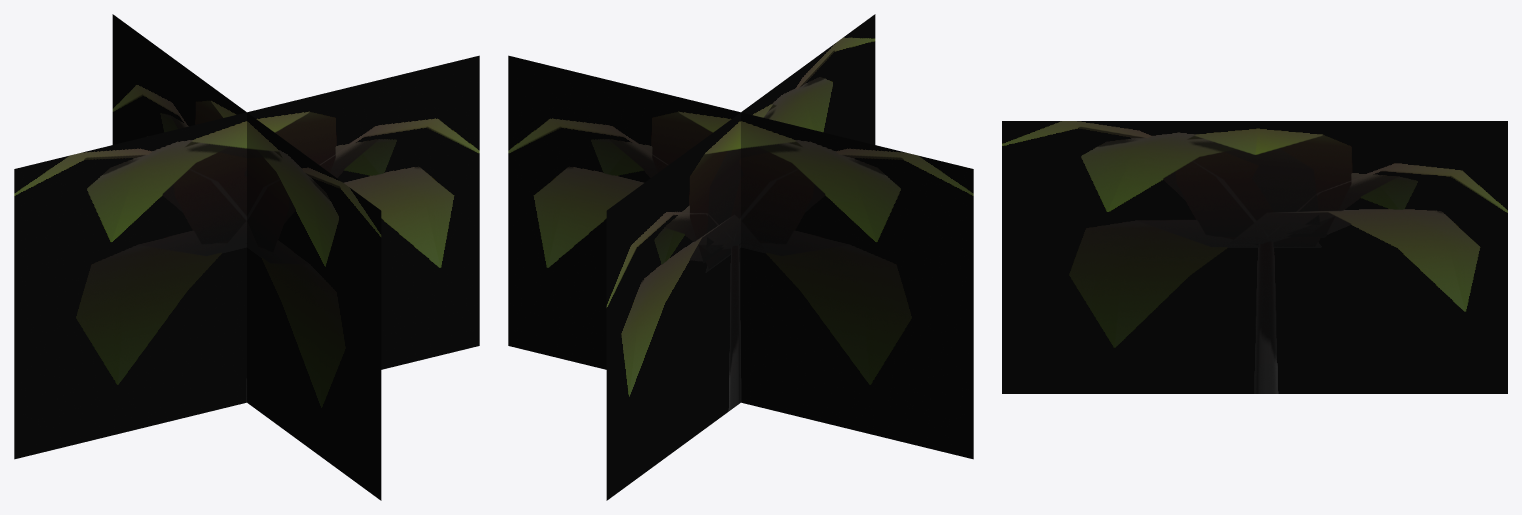
File: banana_a_card.glb
3 renders of one model, left to right at view 1: azimuth 30°, elevation 25°; view 2: azimuth 150°, elevation 25°; view 3: azimuth 270°, elevation 25°, orthographic. The views are drawn at different scales.
Parts seen in each view (by area): view 1: banana_a_card; view 2: banana_a_card; view 3: banana_a_card.
Boxes of the visible parts, <box> form: banana_a_card: <box>14,14,479,500</box>; banana_a_card: <box>508,14,973,500</box>; banana_a_card: <box>1002,121,1507,393</box>.
Size of the model in its own units: 3.43 by 2.04 by 3.43.
Materials: 1 (1 with a texture image).
